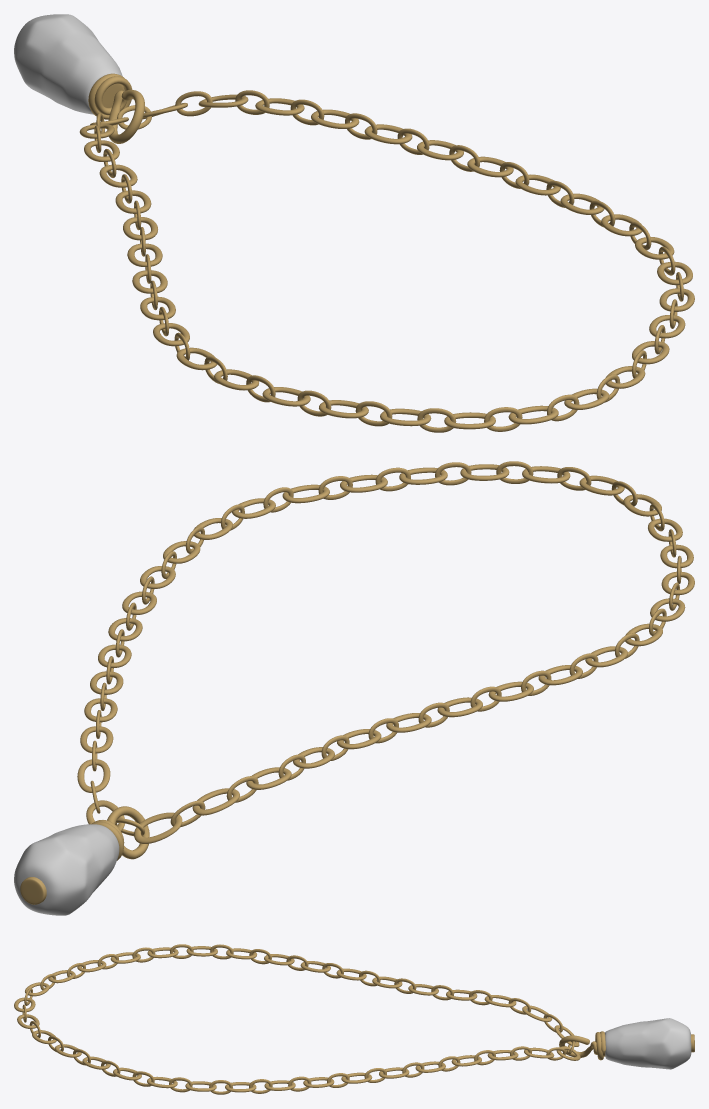
Rendered from necklace.gltf.
3 views of the same model, one above another, from view 1: azimuth 30°, elevation 25°; view 2: azimuth 150°, elevation 25°; view 3: azimuth 270°, elevation 25° (orthographic). The views are drawn at different scales.
Parts seen in each view (by area): view 1: 11777_necklace_v1_l3; view 2: 11777_necklace_v1_l3; view 3: 11777_necklace_v1_l3.
Boxes of the visible parts, <box> form: 11777_necklace_v1_l3: <box>14,14,694,432</box>; 11777_necklace_v1_l3: <box>14,461,694,915</box>; 11777_necklace_v1_l3: <box>14,944,694,1094</box>.
Bounding box in the file's own units: 6.44 × 1.14 × 12.84.
